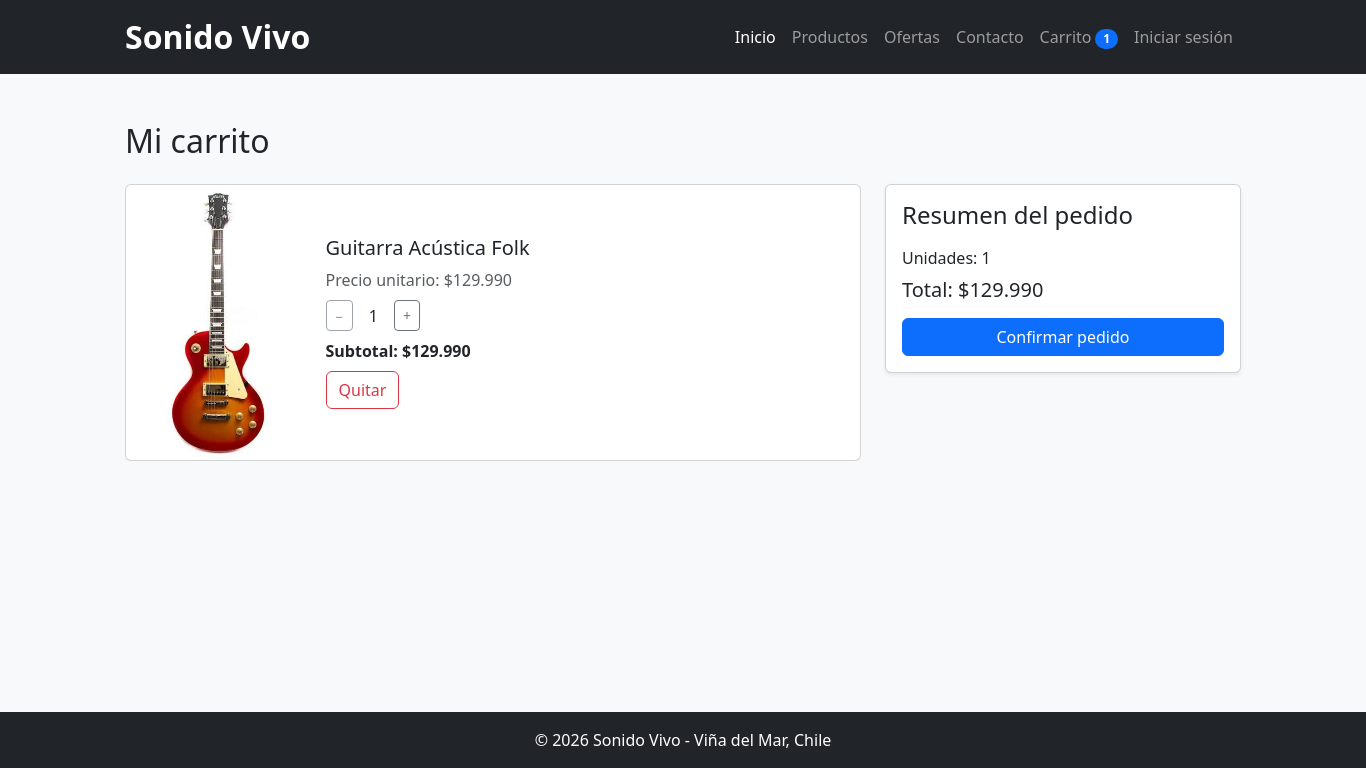
Scenario: CartPage › sube la cantidad, actualiza el total y lo guarda
Click the button named "Aumentar cantidad de Guitarra Acústica Folk". click: (407, 316)
box: [394,300,420,331]
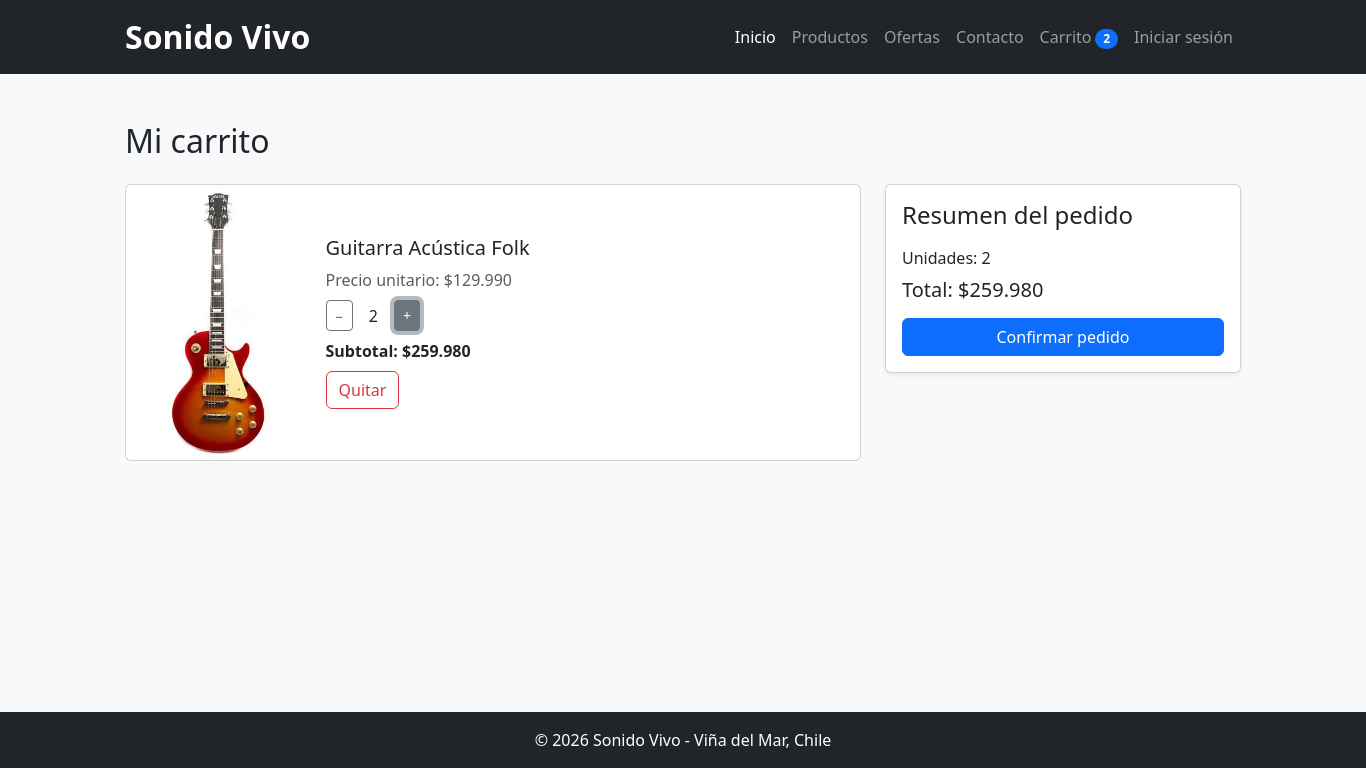
Expected: the text "Total: $259.980" is shown, [902,276,1043,303]
